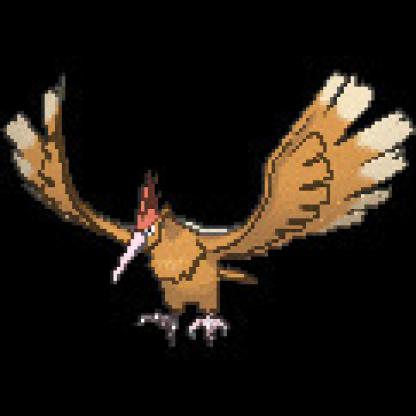Fearow: (4, 49, 416, 348)
